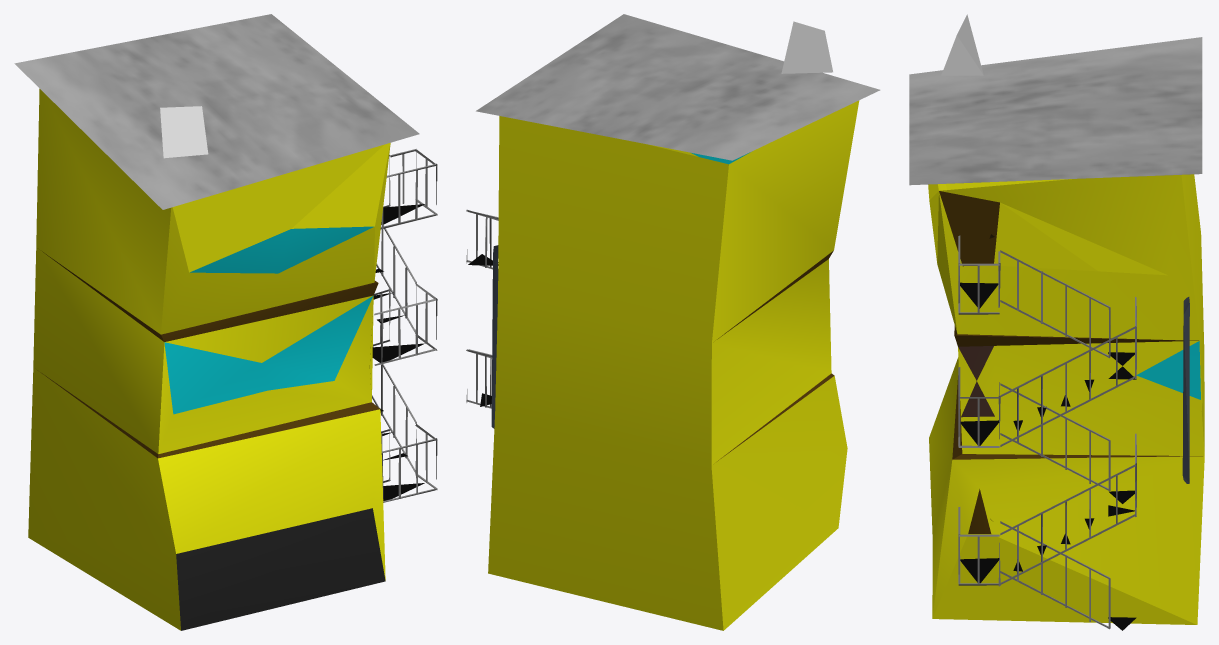
File: PredioTorto-AmareloLOD2.fbx
3 renders of one model, left to right at view 1: azimuth 30°, elevation 25°; view 2: azimuth 150°, elevation 25°; view 3: azimuth 270°, elevation 25°, orthographic.
Visible parts, largest first — view 1: Predio3AndaresLOD2; view 2: Predio3AndaresLOD2; view 3: Predio3AndaresLOD2.
Boxes of the visible parts, bbox=[...] form: Predio3AndaresLOD2: bbox=[14, 14, 437, 630]; Predio3AndaresLOD2: bbox=[466, 14, 880, 630]; Predio3AndaresLOD2: bbox=[909, 14, 1204, 630].
Size of the model in its own units: 1025 by 1669 by 885.
